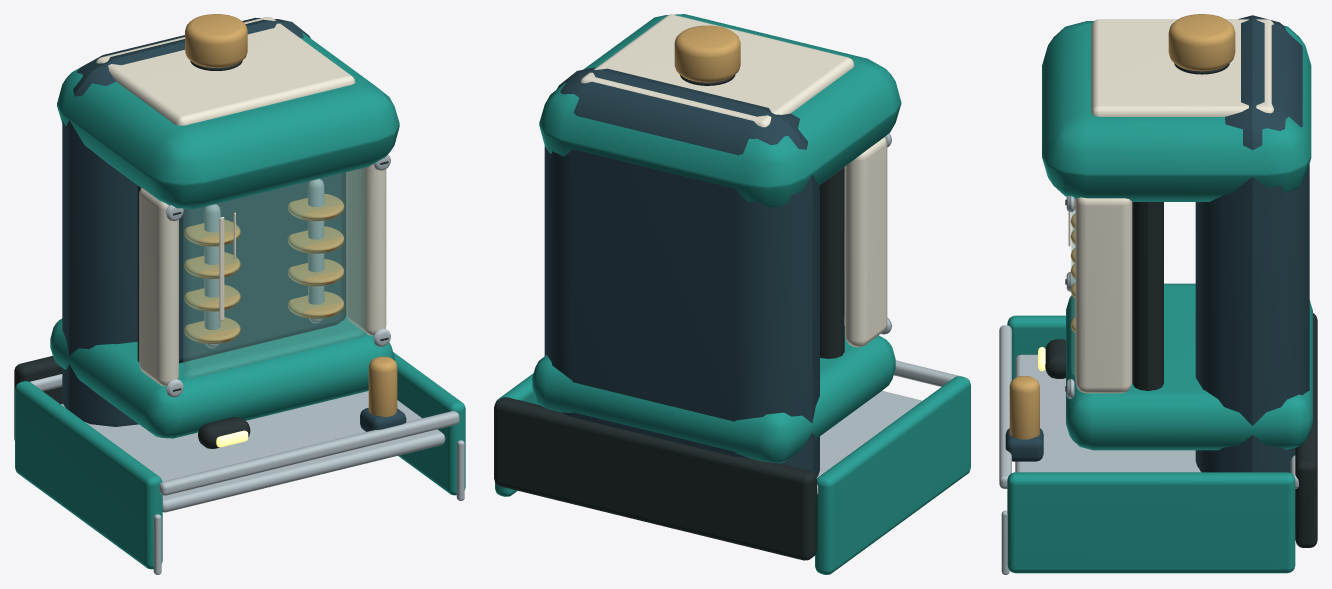
The model's file is dispenser.glb.
3 views of the same model, side by side, from view 1: azimuth 30°, elevation 25°; view 2: azimuth 150°, elevation 25°; view 3: azimuth 270°, elevation 25° (orthographic). The views are drawn at different scales.
Visible parts, largest first — view 1: Fixed Laboratory lagoon enamel, Fixed Laboratory blue enamel, inspection_glass, Fixed Laboratory ivory enamel, Retracting metering gate, Fixed Satin champagne brass, Fixed Brushed steel, Fixed Recessed charcoal gasket, Gate piston, Actuator shoe; view 2: Fixed Laboratory blue enamel, Fixed Laboratory lagoon enamel, Fixed Recessed charcoal gasket, Fixed Laboratory ivory enamel, Fixed Satin champagne brass, Retracting metering gate, Fixed Brushed steel; view 3: Fixed Laboratory lagoon enamel, Fixed Laboratory blue enamel, Fixed Laboratory ivory enamel, Fixed Recessed charcoal gasket, Retracting metering gate, Fixed Satin champagne brass, Fixed Brushed steel, Gate piston, Actuator shoe, inspection_glass.
Part boxes in pixels (x1,y1,x2,y2): Fixed Laboratory lagoon enamel: [15, 32, 465, 569]; Fixed Laboratory blue enamel: [62, 17, 342, 426]; inspection_glass: [183, 167, 365, 378]; Fixed Laboratory ivory enamel: [96, 17, 386, 386]; Retracting metering gate: [61, 391, 445, 512]; Fixed Satin champagne brass: [184, 14, 344, 344]; Fixed Brushed steel: [30, 154, 464, 574]; Fixed Recessed charcoal gasket: [14, 60, 388, 448]; Gate piston: [368, 356, 397, 416]; Actuator shoe: [360, 408, 406, 431]; Fixed Laboratory blue enamel: [544, 67, 819, 477]; Fixed Laboratory lagoon enamel: [495, 14, 970, 574]; Fixed Recessed charcoal gasket: [494, 75, 844, 560]; Fixed Laboratory ivory enamel: [580, 14, 887, 347]; Fixed Satin champagne brass: [674, 25, 740, 82]; Retracting metering gate: [816, 391, 922, 478]; Fixed Brushed steel: [817, 133, 969, 494]; Fixed Laboratory lagoon enamel: [1007, 21, 1312, 573]; Fixed Laboratory blue enamel: [1195, 15, 1309, 472]; Fixed Laboratory ivory enamel: [1068, 19, 1273, 393]; Fixed Recessed charcoal gasket: [1045, 63, 1317, 547]; Retracting metering gate: [1015, 354, 1200, 472]; Fixed Satin champagne brass: [1070, 14, 1235, 332]; Fixed Brushed steel: [999, 196, 1298, 574]; Gate piston: [1009, 376, 1039, 439]; Actuator shoe: [1005, 428, 1043, 461]; inspection_glass: [1071, 209, 1074, 375].
Bounding box in the file's own units: 1.23 × 1.64 × 1.
